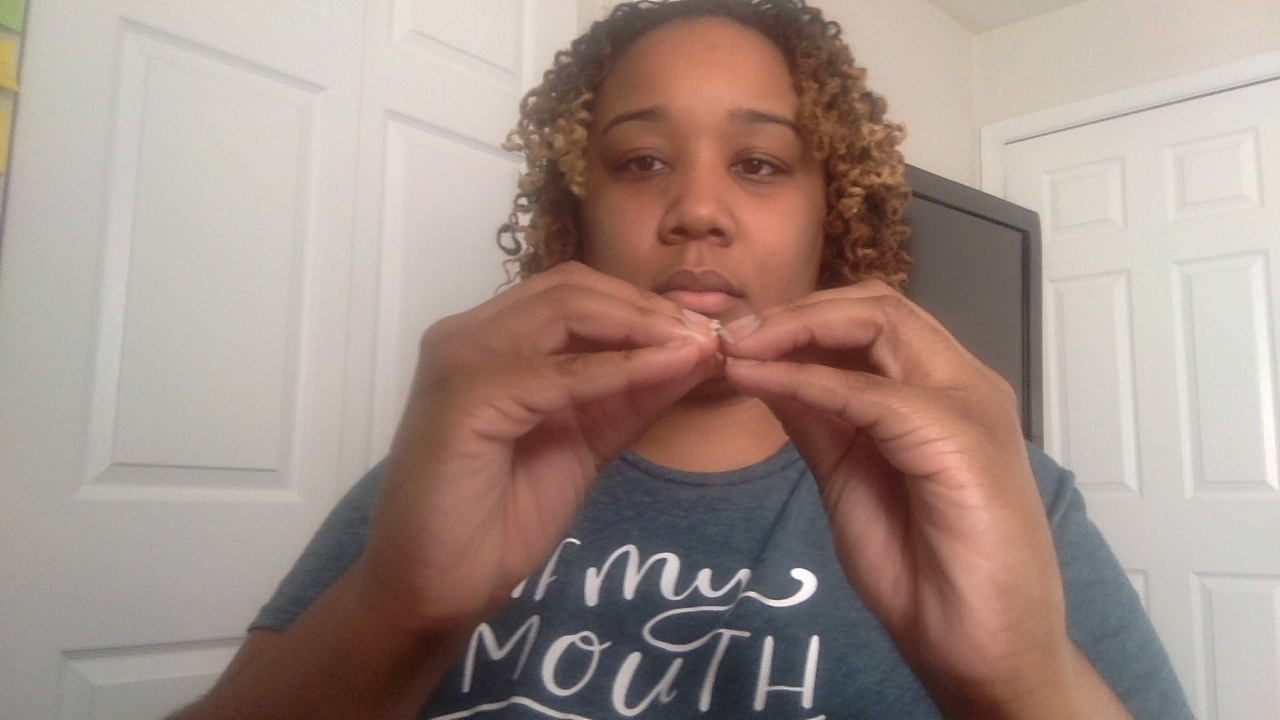more: (360, 261, 1083, 681)
